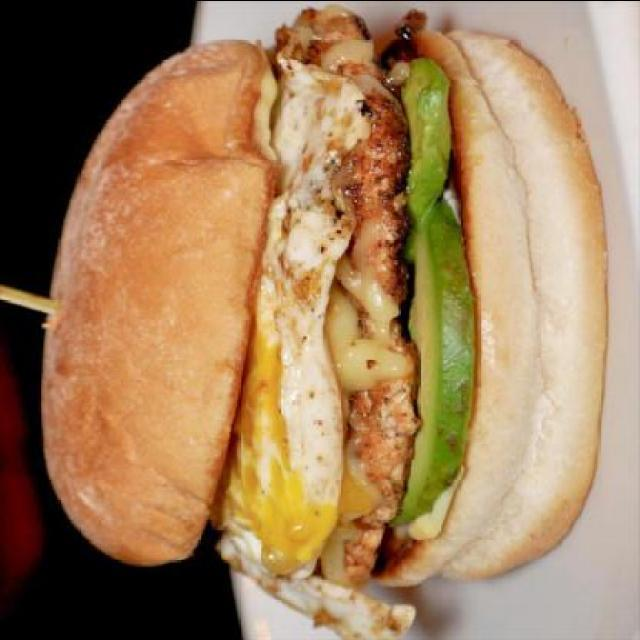Hamburger: (43, 5, 610, 640)
